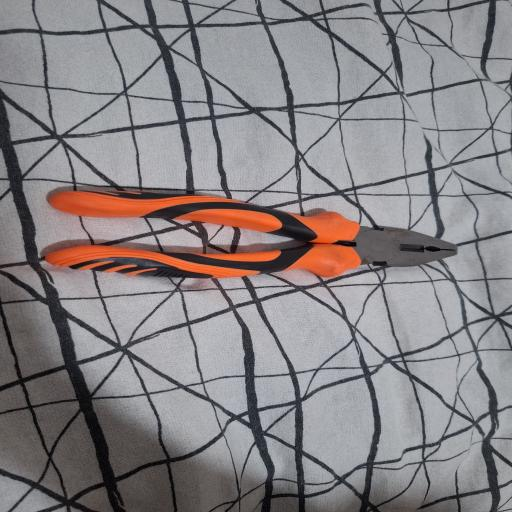alicate: (42, 183, 464, 294)
